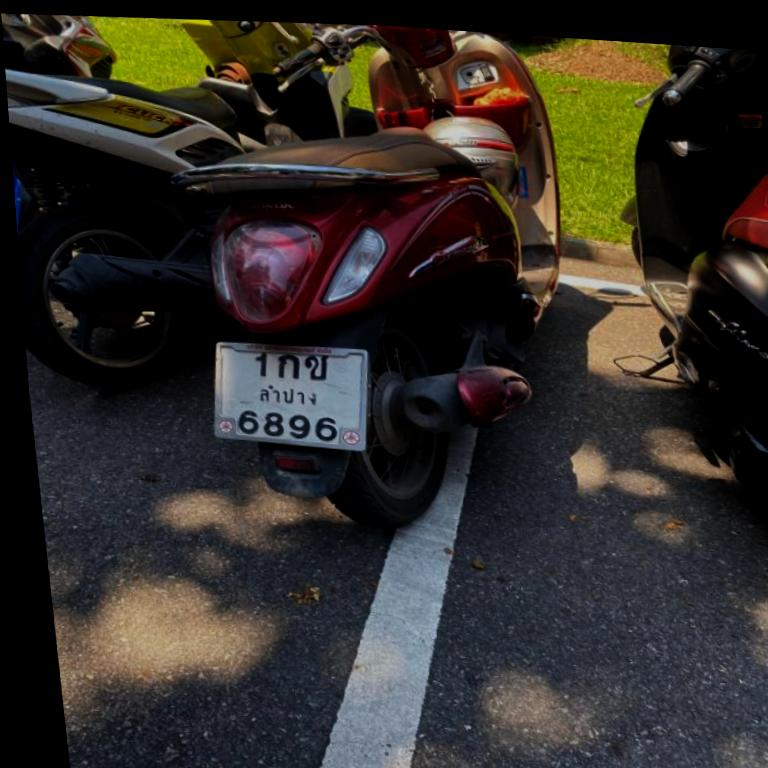license plate: (207, 323, 378, 472)
